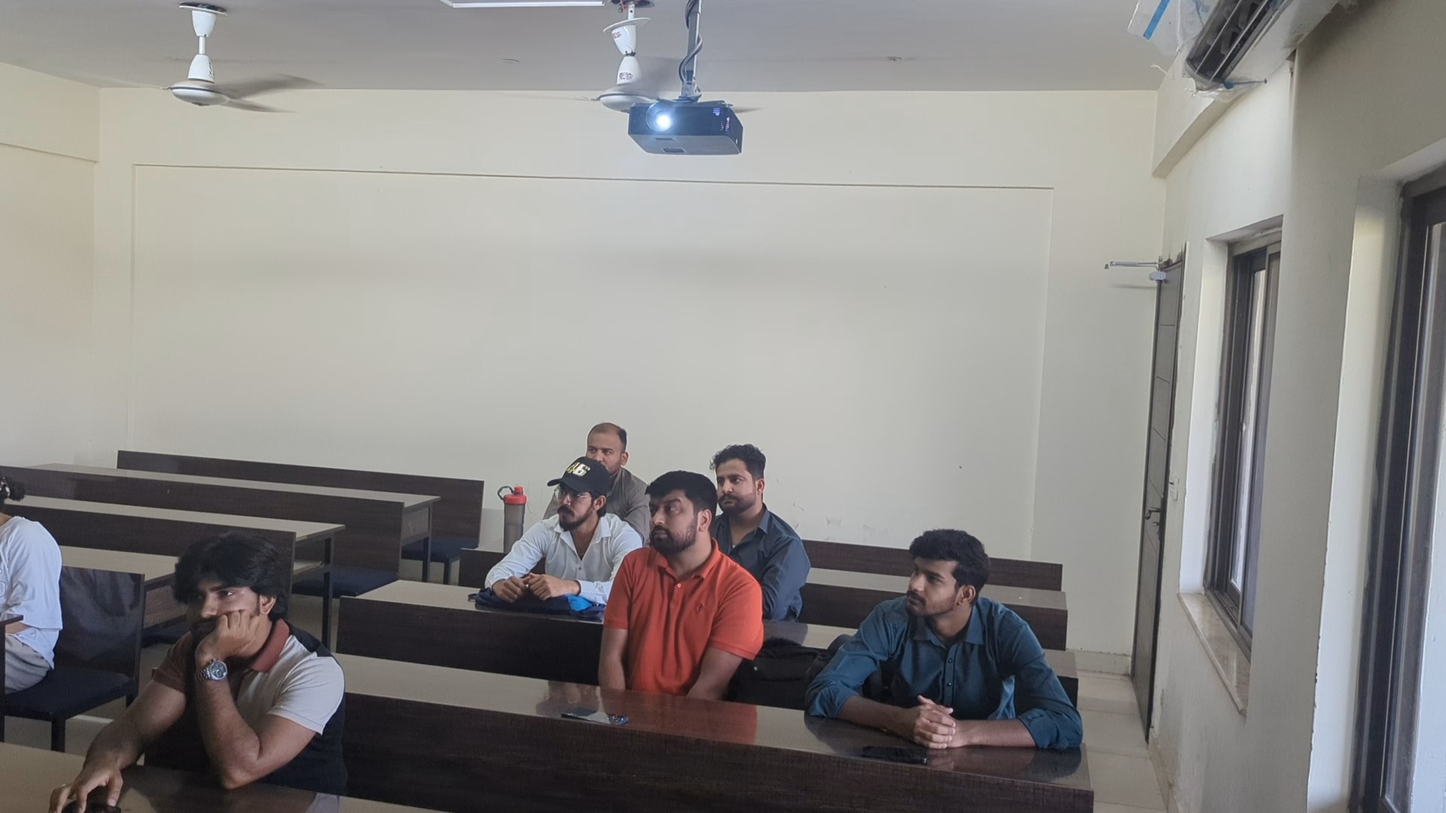look_forward: (49, 530, 346, 813), (796, 524, 1082, 758), (586, 474, 756, 708), (482, 451, 618, 604), (705, 432, 823, 589), (591, 420, 654, 505)
